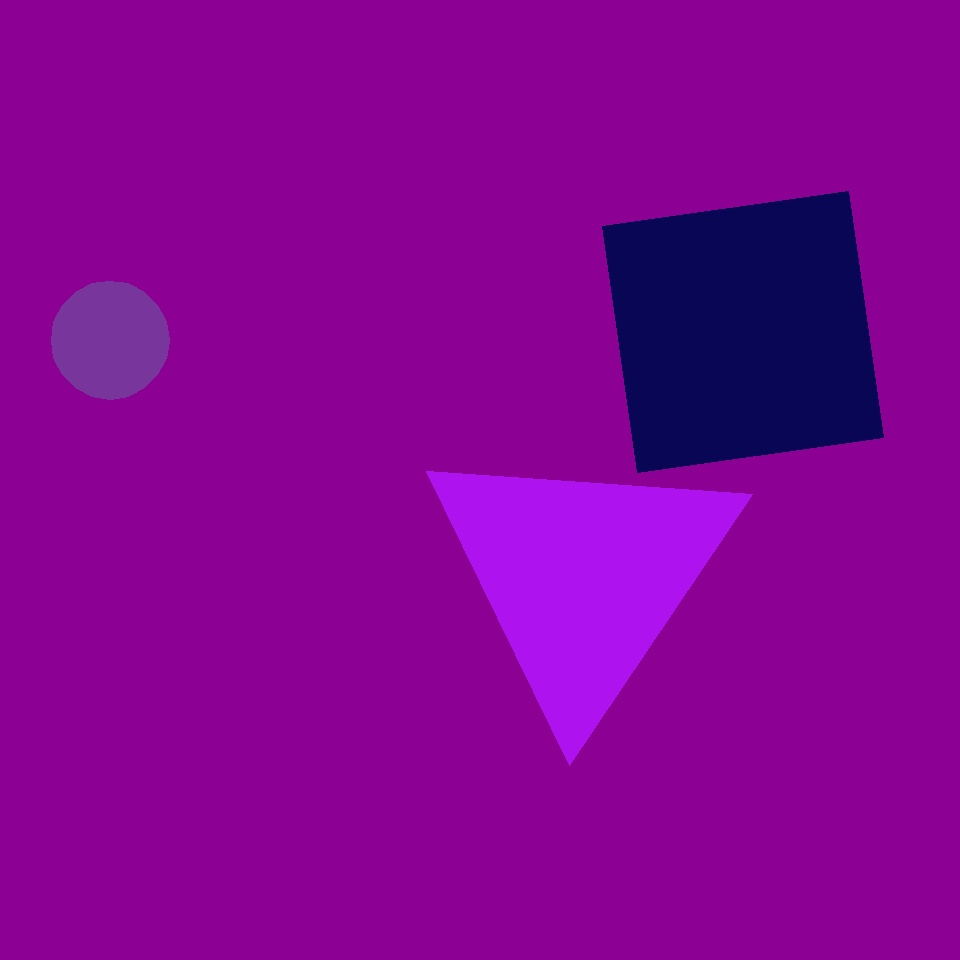circle: (420, 430, 746, 724), (617, 228, 903, 520), (662, 391, 874, 604), (361, 578, 534, 758)
square: (602, 192, 884, 472), (137, 504, 373, 740)
triangle: (759, 492, 907, 640), (51, 281, 169, 399)
